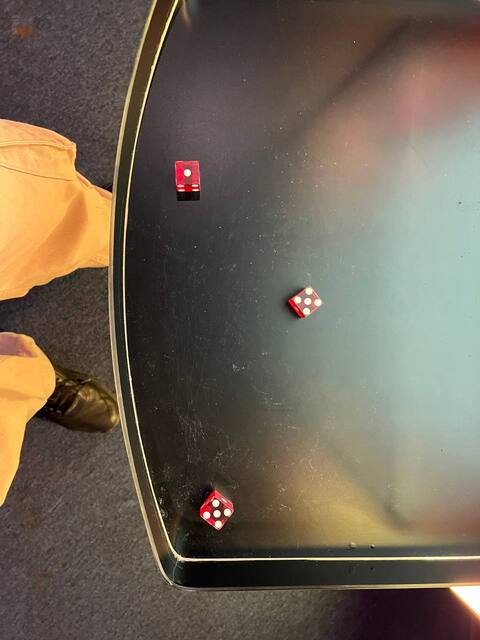five: (285, 283, 325, 320), (198, 497, 235, 532)
one: (172, 157, 202, 187)
